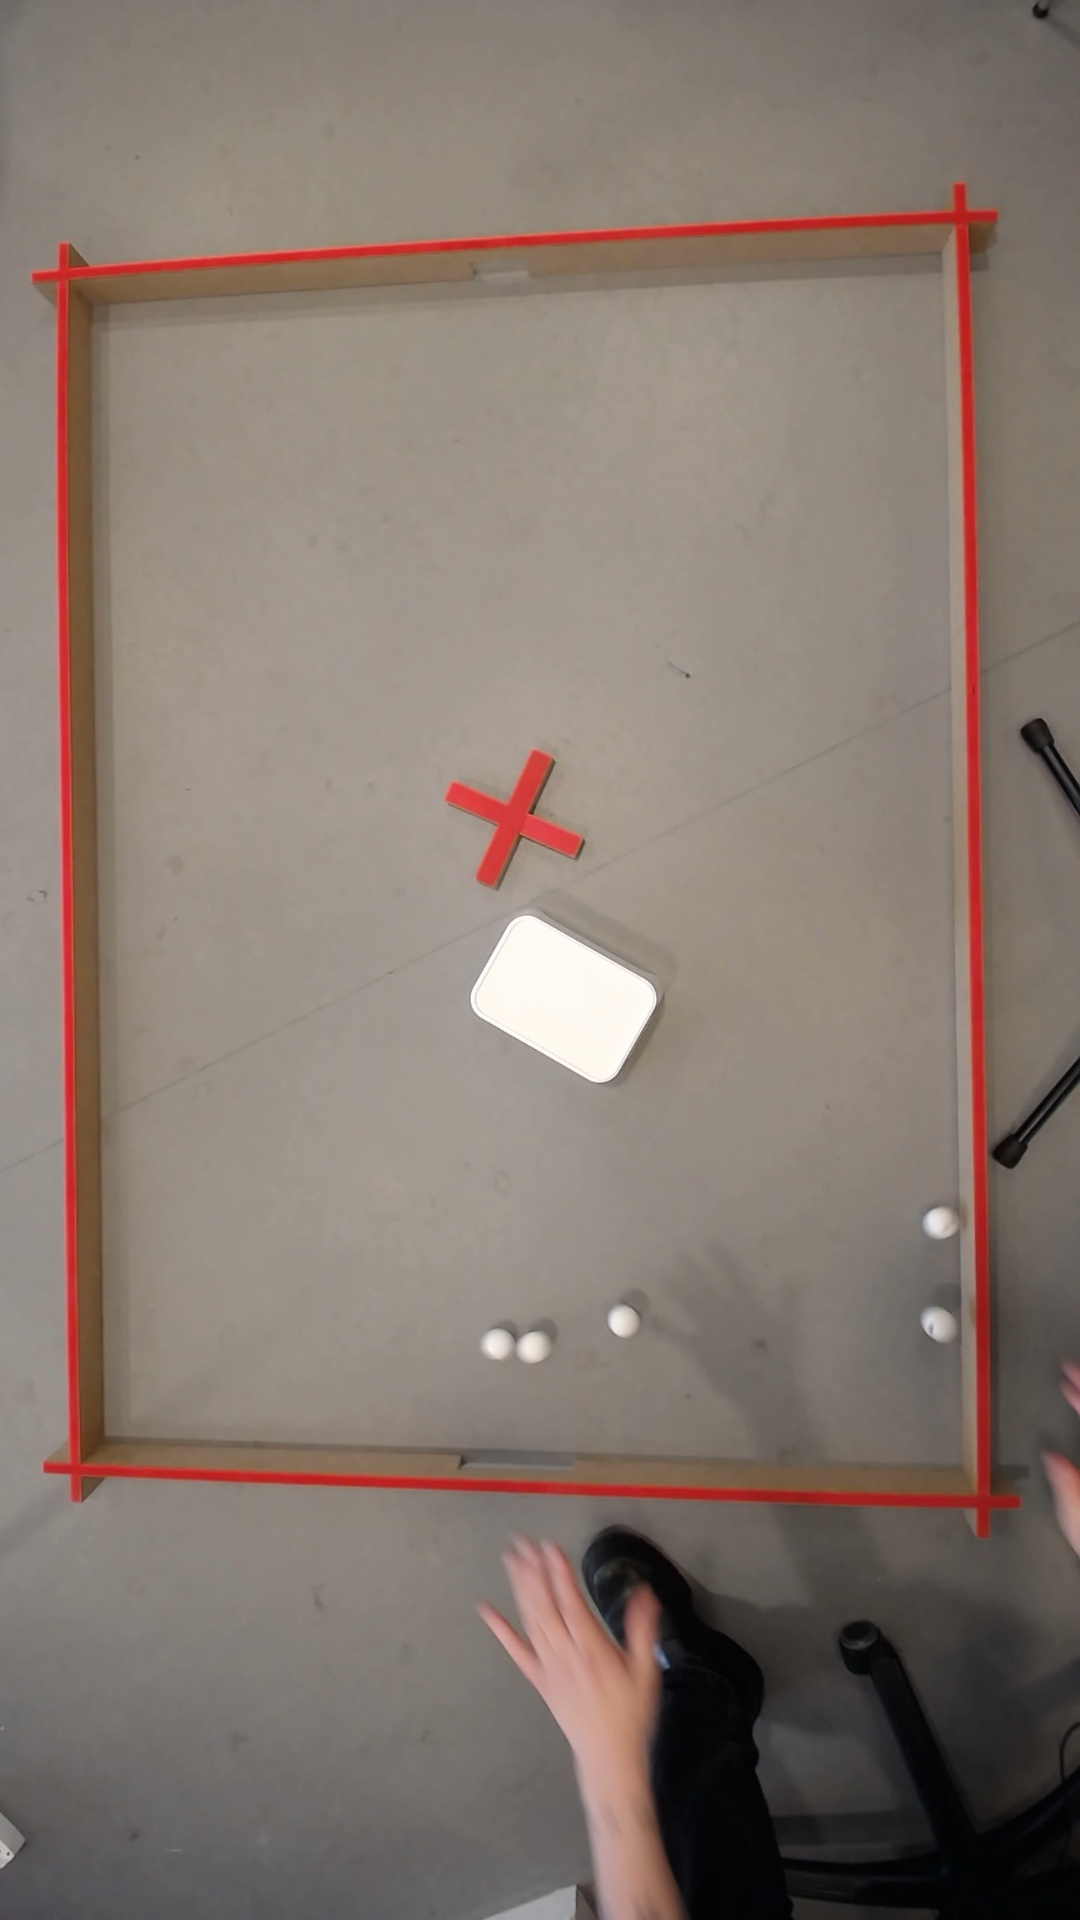balls: (460, 905, 665, 1091), (477, 1325, 513, 1361), (514, 1328, 549, 1364), (919, 1308, 948, 1337), (924, 1209, 948, 1236), (609, 1308, 632, 1335)
car: (491, 1622, 518, 1658)
